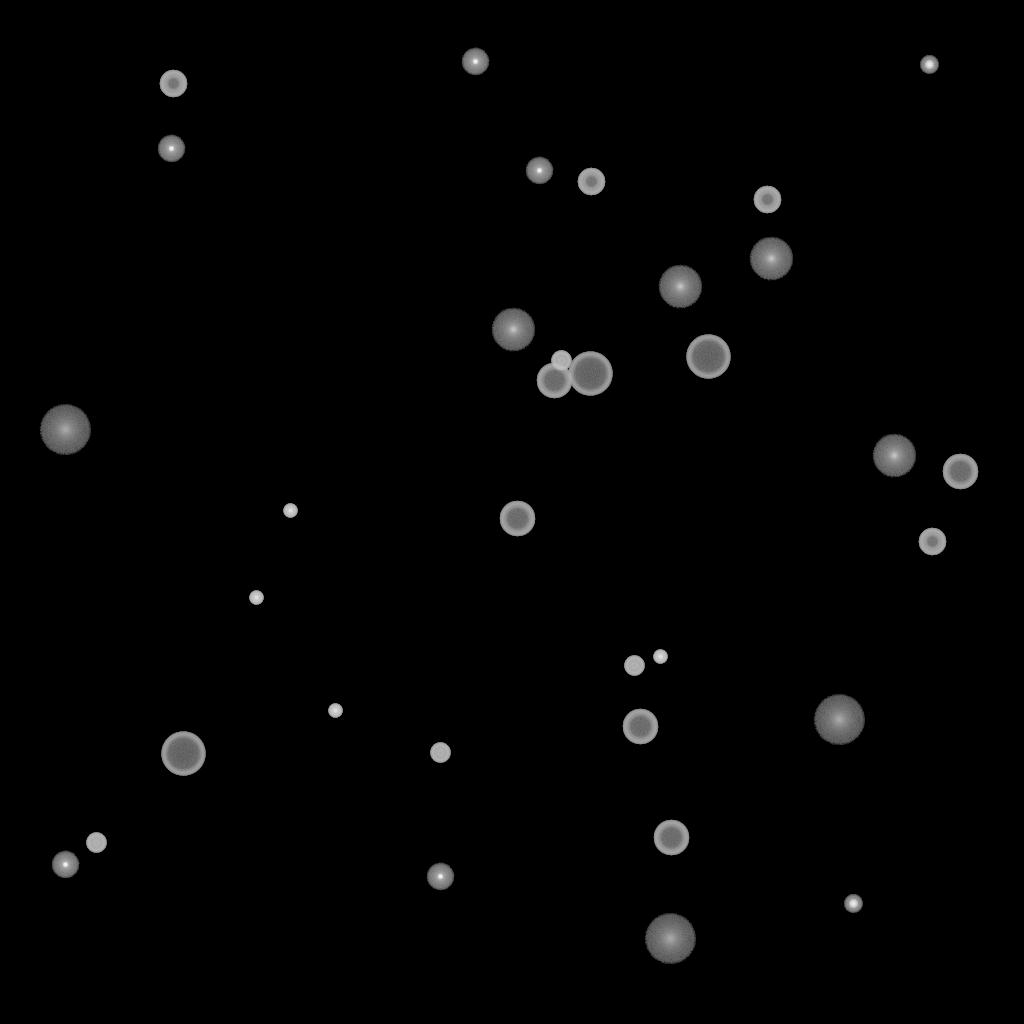depth:-10: (157, 135, 185, 163), (461, 48, 489, 76), (426, 863, 454, 891), (525, 157, 553, 185), (51, 851, 79, 879)
depth:-20: (920, 56, 938, 74), (844, 895, 862, 913)
depth:-30: (328, 704, 342, 718), (283, 504, 297, 518), (249, 591, 263, 605), (653, 650, 667, 664)
depth:-40: (430, 743, 450, 763), (624, 656, 644, 676), (551, 351, 571, 371), (86, 833, 106, 853)
depth:-50: (577, 168, 605, 196), (159, 70, 187, 98), (753, 186, 781, 214), (918, 528, 946, 556)
depth:-60: (622, 709, 658, 745), (536, 363, 572, 399), (653, 820, 689, 856), (499, 501, 535, 537), (942, 454, 978, 490)
depth:-70: (568, 352, 612, 396), (161, 732, 205, 776), (686, 335, 730, 379)
depth:10: (749, 237, 793, 281), (872, 434, 916, 478), (491, 308, 535, 352), (658, 265, 702, 309)
depth:20: (644, 914, 696, 964), (813, 695, 865, 745), (39, 405, 91, 455)
